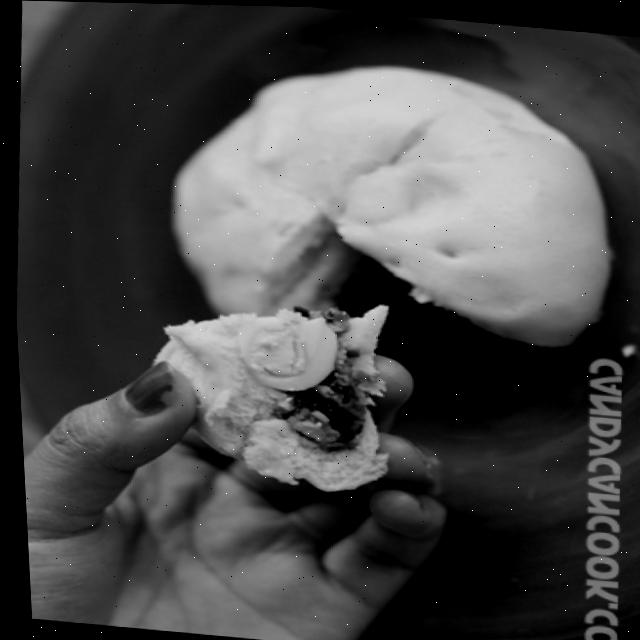带馅早点: (86, 33, 629, 542)
